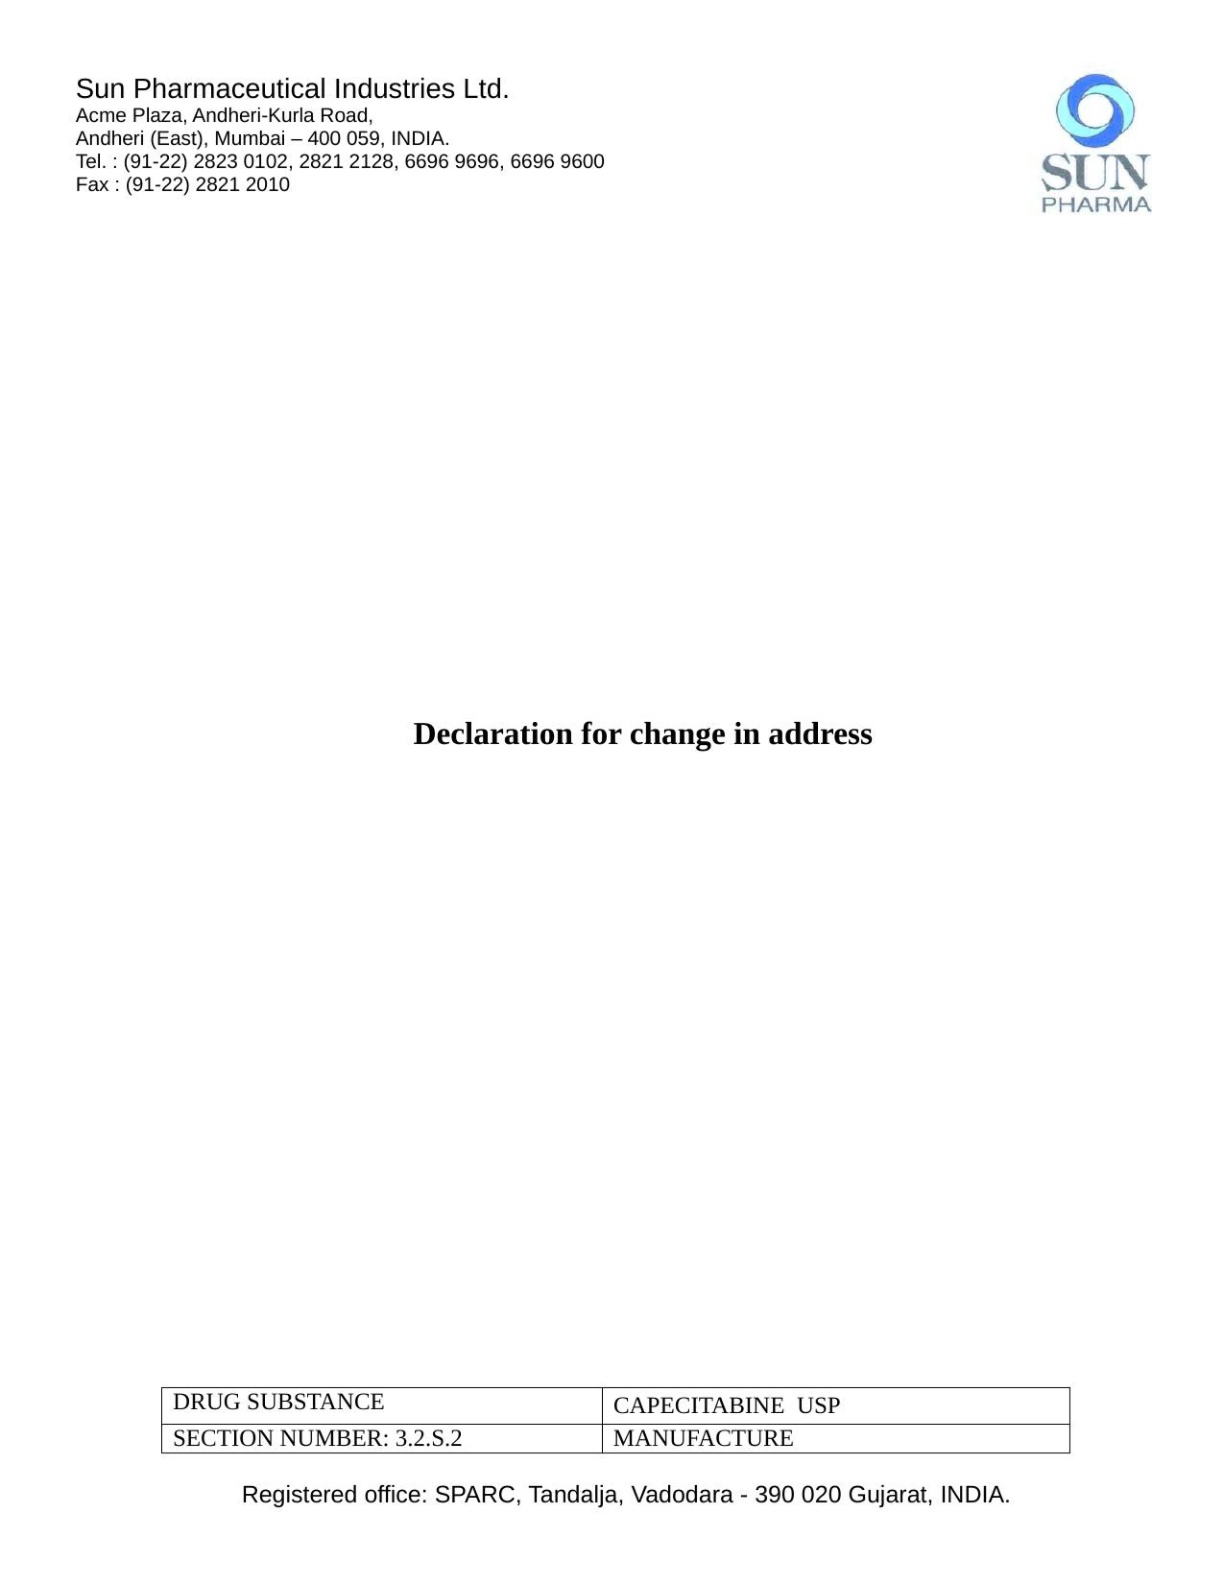full_lined: (161, 1384, 1071, 1454)
